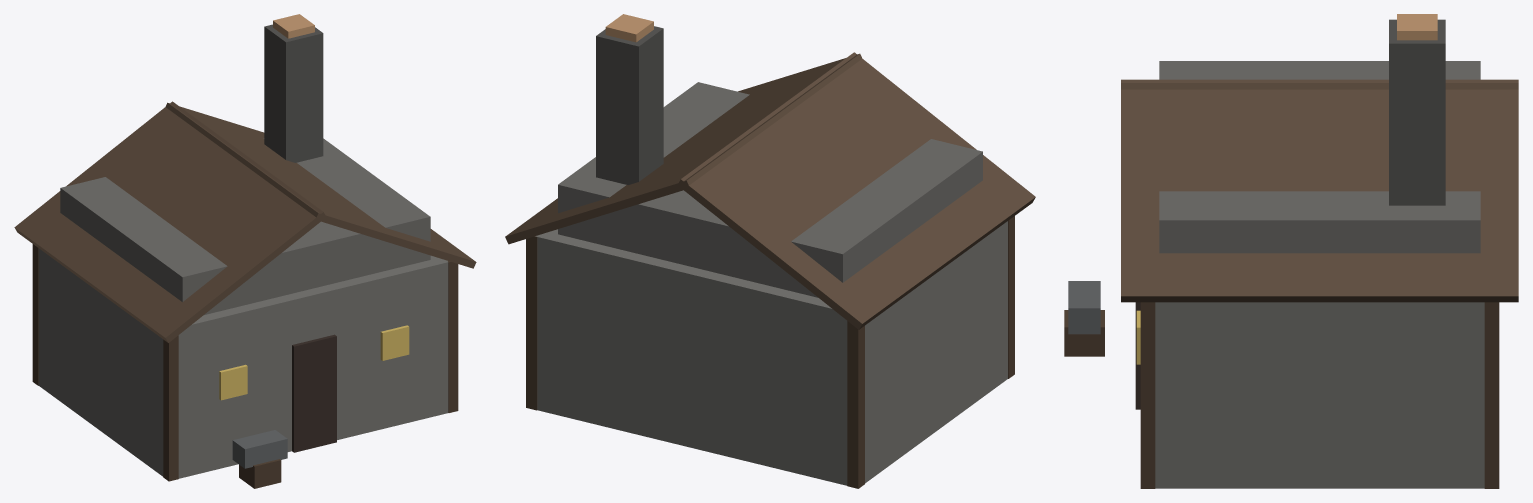
Rendered from smithy.glb.
The picture shows the model from 3 angles, left to right: view 1: azimuth 30°, elevation 25°; view 2: azimuth 150°, elevation 25°; view 3: azimuth 270°, elevation 25°; orthographic projection. The views are drawn at different scales.
Visible parts, largest first — view 1: smithy; view 2: smithy; view 3: smithy.
Part boxes in pixels (bbox=[...]): smithy: bbox=[14, 14, 476, 488]; smithy: bbox=[505, 14, 1035, 488]; smithy: bbox=[1064, 14, 1518, 488].
Bounding box in the file's own units: 5.82 × 5.82 × 5.6.
Materials: 1 (1 with a texture image).
